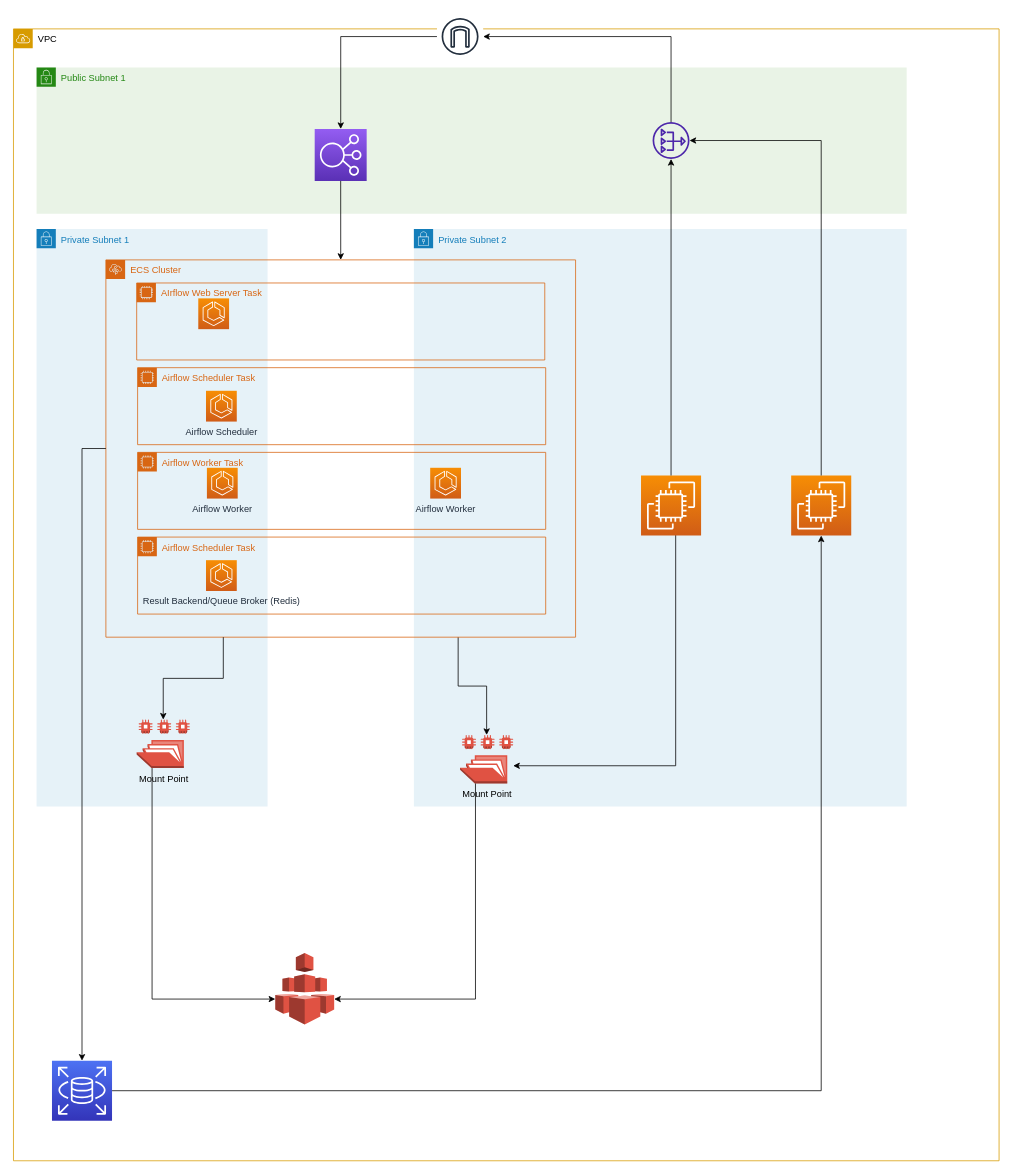
This 1013x1174 diagram has some shape labels left out. Here are the shapes that lost their labels. From the top down, the centre of each, then its label:
pixel 459 36: Internet gateway
pixel 340 154: Load Balancer
pixel 670 140: NAT Gateway
pixel 213 313: AIrflow Web Server
pixel 670 505: Agent Deploy (EC2)
pixel 820 505: Power BI Gateway
pixel 304 988: DAGs/Logs (EFS)
pixel 81 1090: DW (RDS)
